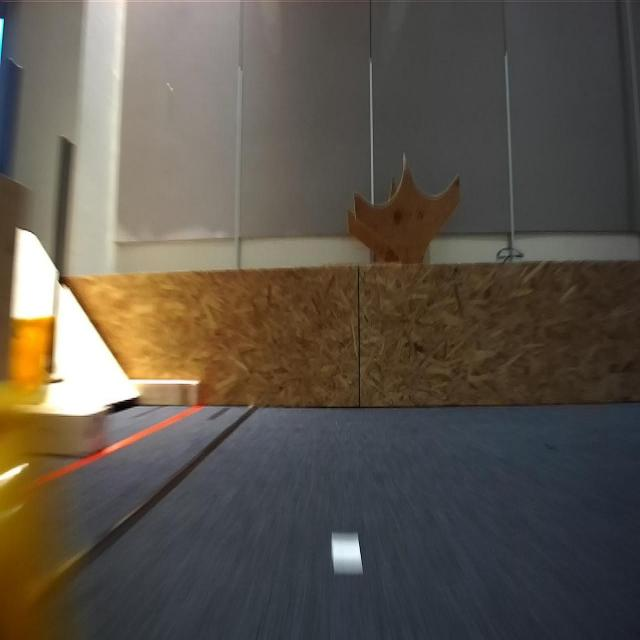frc_cone: (0, 392, 70, 640), (6, 312, 52, 405)
